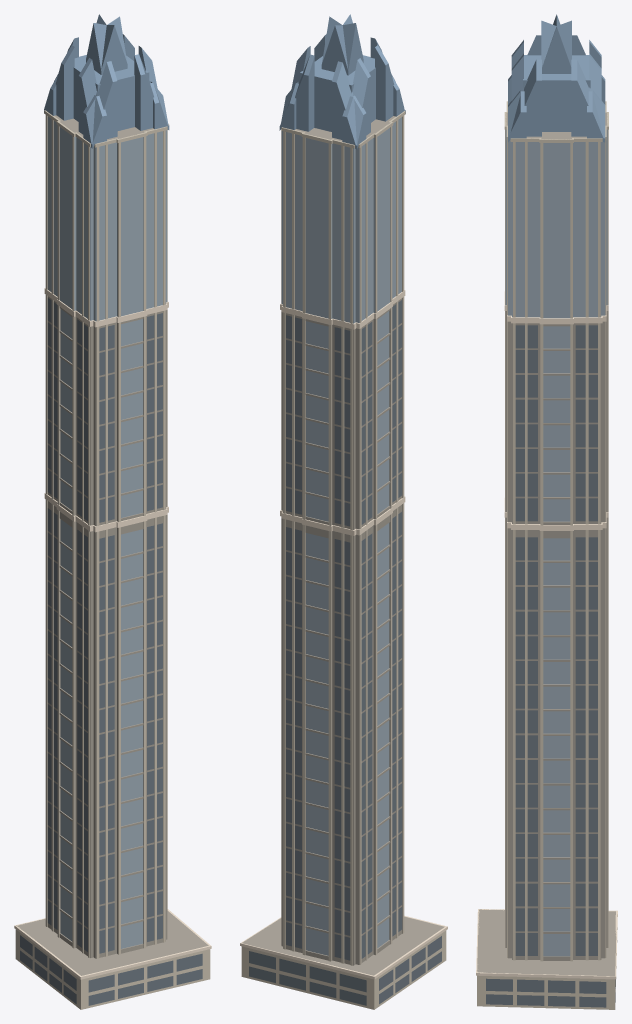
File: dubai-marina-101.glb
The picture shows the model from 3 angles, left to right: view 1: azimuth 30°, elevation 25°; view 2: azimuth 150°, elevation 25°; view 3: azimuth 270°, elevation 25°; orthographic projection.
Parts seen in each view (by area): view 1: Marina 101; view 2: Marina 101; view 3: Marina 101.
Boxes of the visible parts, x1,y1,x2,y2 form: Marina 101: [14, 14, 211, 1009]; Marina 101: [240, 14, 447, 1009]; Marina 101: [476, 14, 617, 1009].
Size of the model in its own units: 64.68 by 425 by 57.25.
